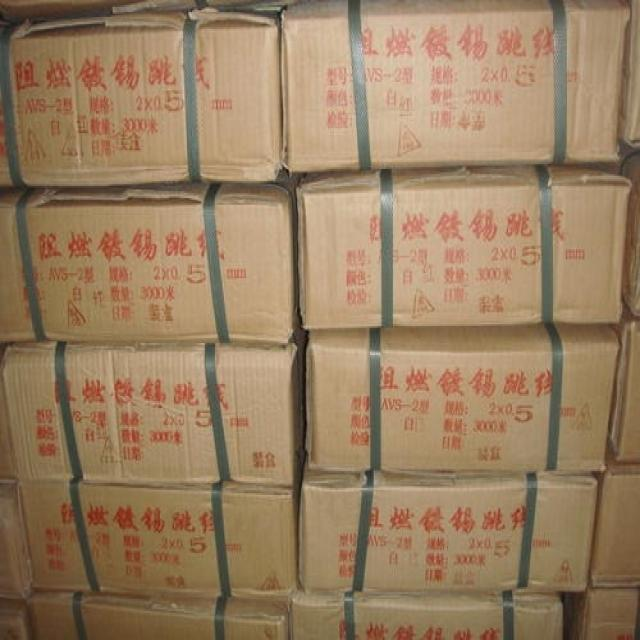box: (282, 1, 624, 177), (0, 1, 293, 189), (296, 167, 629, 332), (0, 175, 301, 346), (304, 322, 620, 472), (0, 334, 304, 488), (1, 335, 305, 488), (299, 467, 598, 593), (17, 465, 303, 589), (26, 588, 288, 638), (287, 592, 563, 638), (588, 445, 639, 589), (601, 146, 639, 323), (563, 574, 639, 638), (609, 304, 639, 465), (0, 486, 33, 601), (617, 3, 639, 150), (0, 601, 27, 638)
